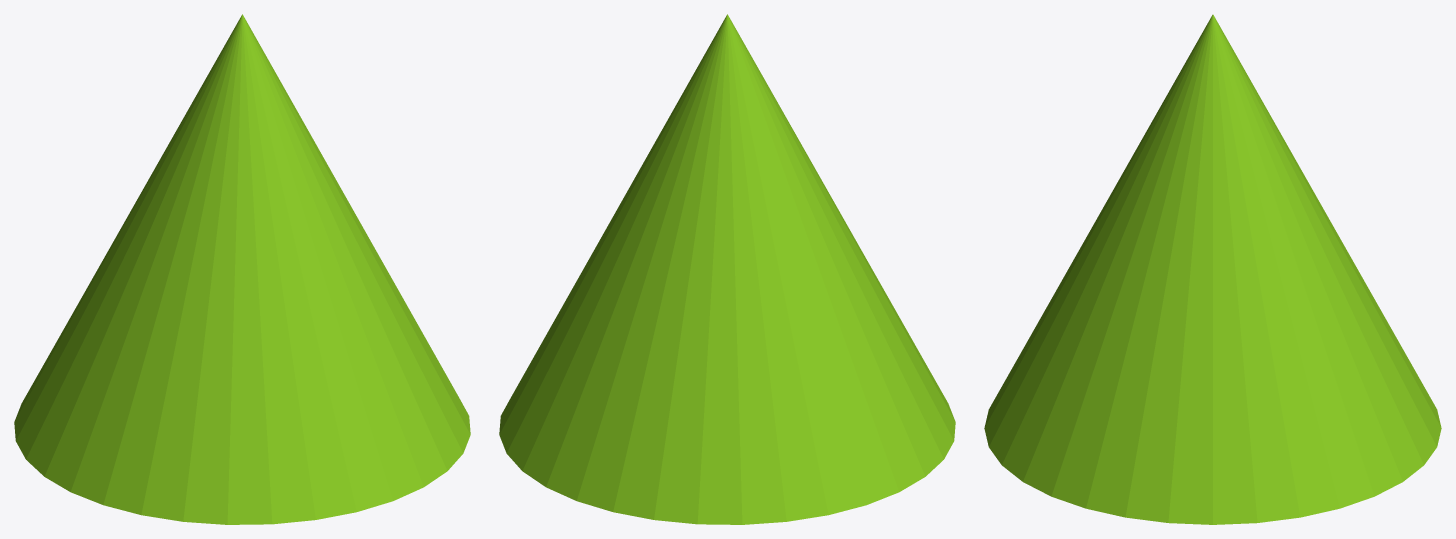
File: Party Hat Green.fbx
The picture shows the model from 3 angles, left to right: view 1: azimuth 30°, elevation 25°; view 2: azimuth 150°, elevation 25°; view 3: azimuth 270°, elevation 25°; orthographic projection.
Parts seen in each view (by area): view 1: Cone; view 2: Cone; view 3: Cone.
Part boxes in pixels (<box>): Cone: <box>14,14,470,524</box>; Cone: <box>499,14,955,524</box>; Cone: <box>984,14,1441,524</box>.
Size of the model in its own units: 200 by 200 by 200.
